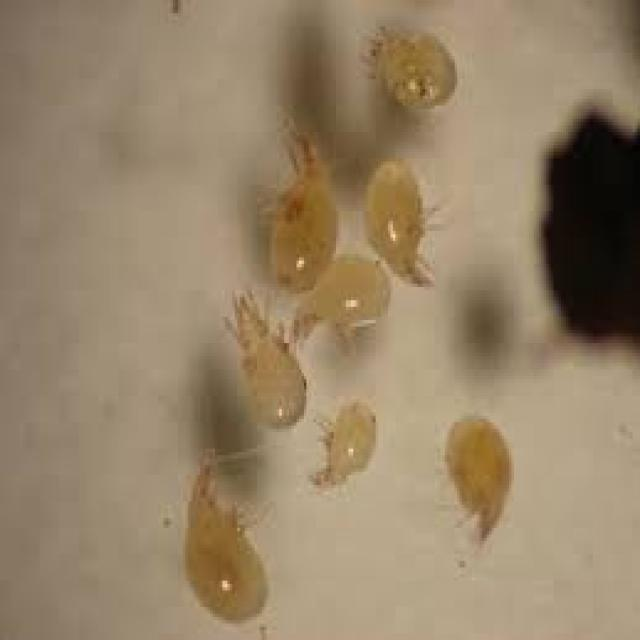Mites: (181, 454, 280, 626), (216, 288, 311, 440), (269, 115, 343, 286), (364, 154, 456, 282), (432, 412, 514, 552), (357, 21, 458, 110), (306, 400, 384, 492)
